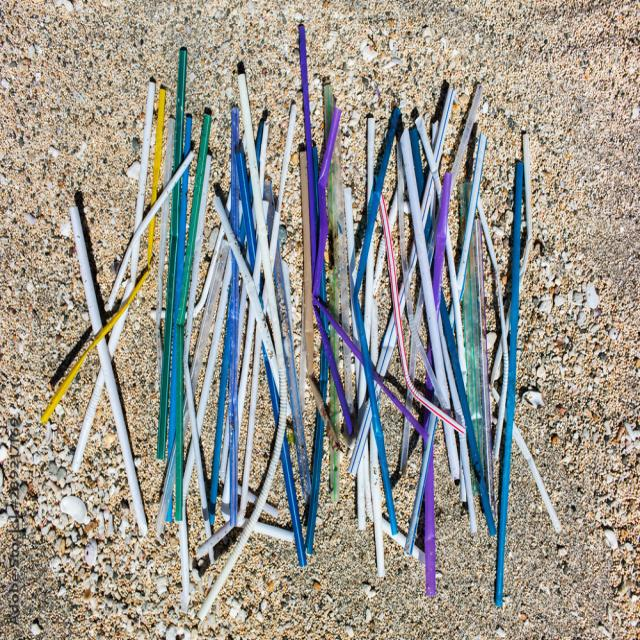plastic: (489, 149, 529, 615)
